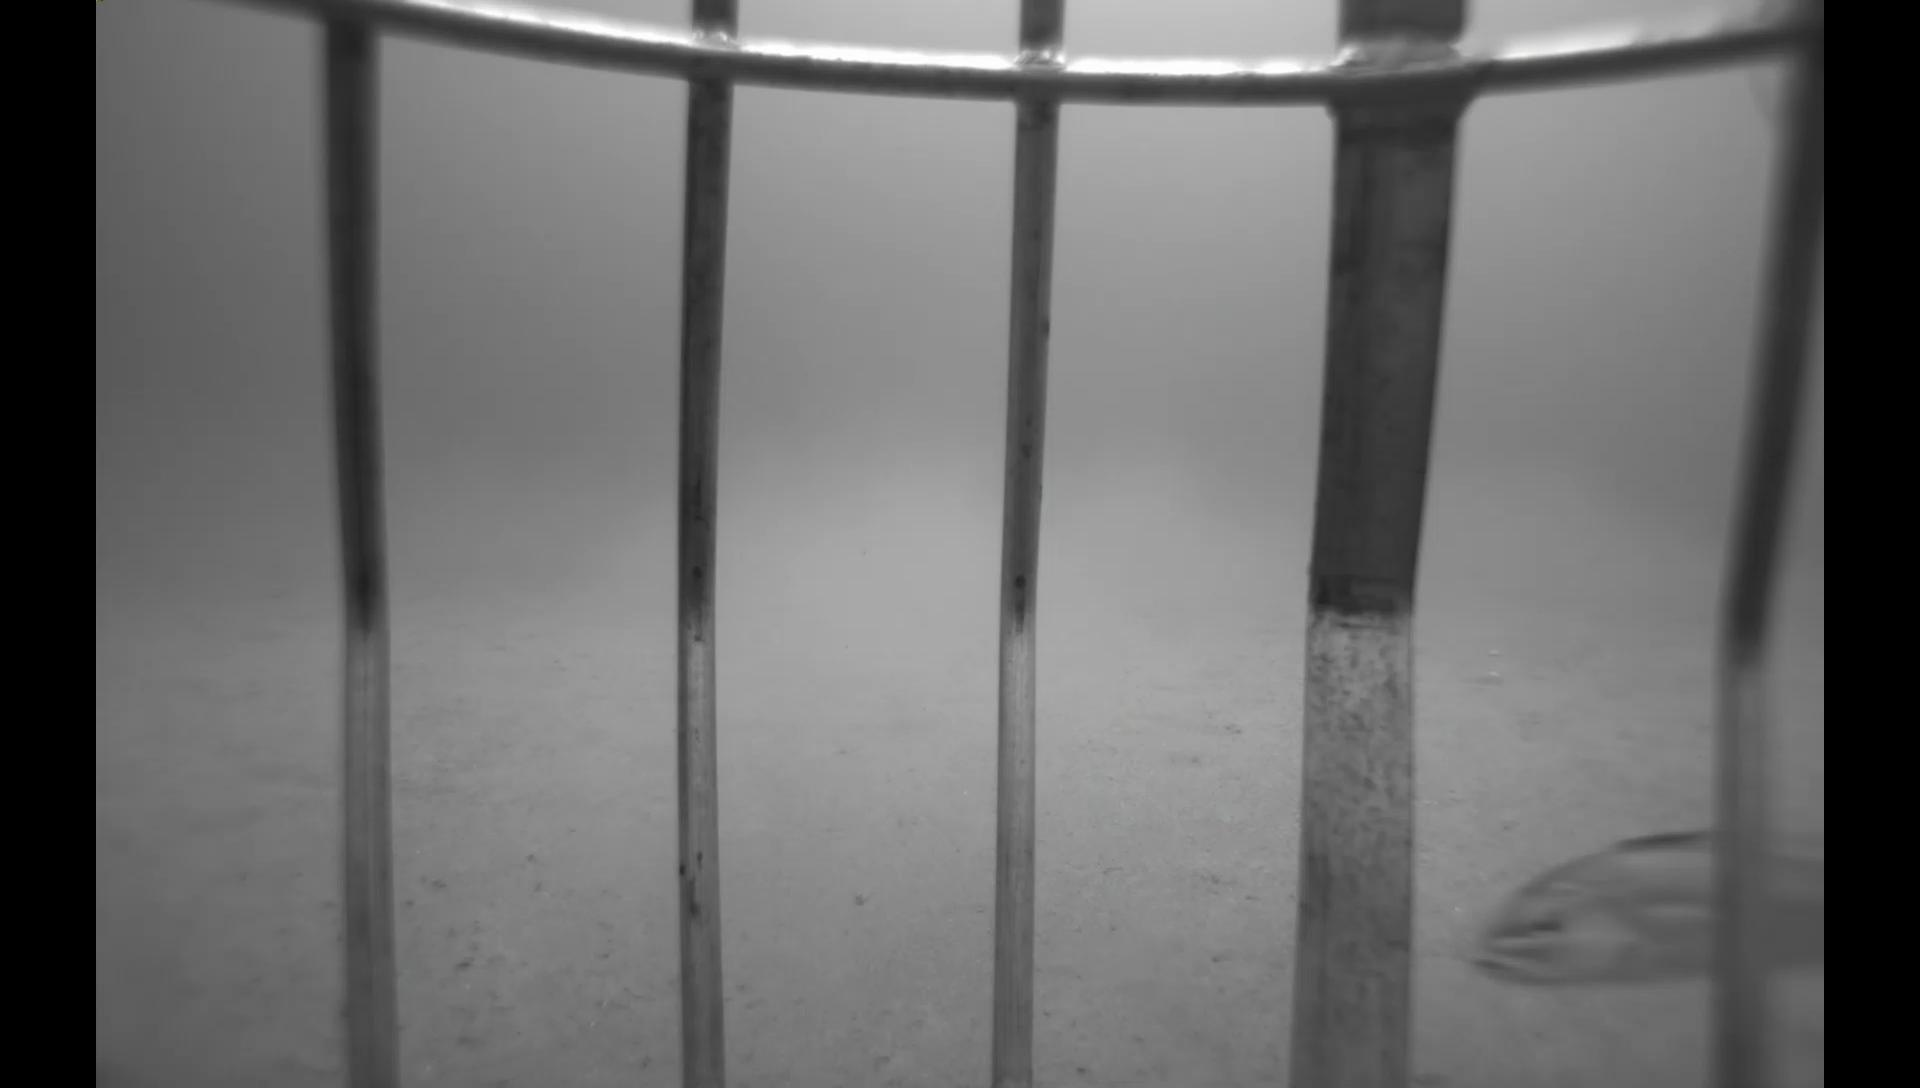CAULOLATILUSCYANOPS-170070101: (1455, 811, 1822, 1006)
SYACIUM-183011000: (1141, 699, 1247, 742)
